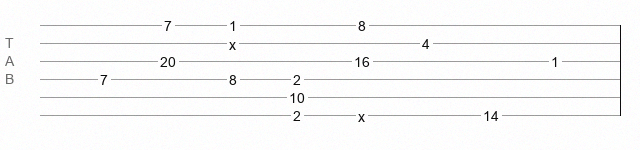1: (229, 18, 237, 28), (551, 54, 559, 64)
10: (289, 90, 305, 100)
14: (483, 108, 499, 118)
16: (354, 54, 370, 64)
2: (293, 108, 301, 118), (293, 72, 301, 82)
20: (160, 54, 176, 64)
4: (422, 36, 430, 46)
7: (100, 72, 108, 82), (164, 18, 172, 28)
8: (229, 72, 237, 82), (358, 18, 366, 28)
x: (229, 37, 236, 45), (358, 109, 365, 117)
